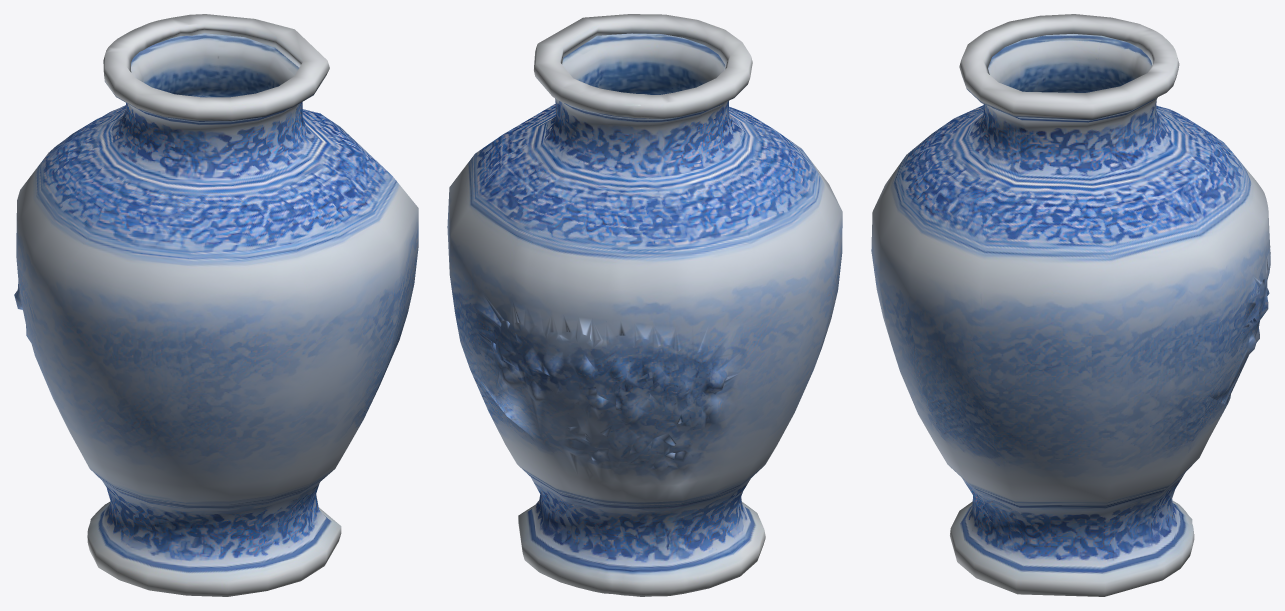
The model's file is urn.glb.
3 views of the same model, side by side, from view 1: azimuth 30°, elevation 25°; view 2: azimuth 150°, elevation 25°; view 3: azimuth 270°, elevation 25° (orthographic).
Visible parts, largest first — view 1: tripo_node_f6cab72a-0c56-4d7a-ac2d-7c3d180766ff; view 2: tripo_node_f6cab72a-0c56-4d7a-ac2d-7c3d180766ff; view 3: tripo_node_f6cab72a-0c56-4d7a-ac2d-7c3d180766ff.
Part boxes in pixels (x1,y1,x2,y2): tripo_node_f6cab72a-0c56-4d7a-ac2d-7c3d180766ff: (14,14,418,596); tripo_node_f6cab72a-0c56-4d7a-ac2d-7c3d180766ff: (447,14,842,596); tripo_node_f6cab72a-0c56-4d7a-ac2d-7c3d180766ff: (871,14,1270,596).
Size of the model in its own units: 0.7285 by 0.998 by 0.7363.
Materials: 1 (1 with a texture image).
